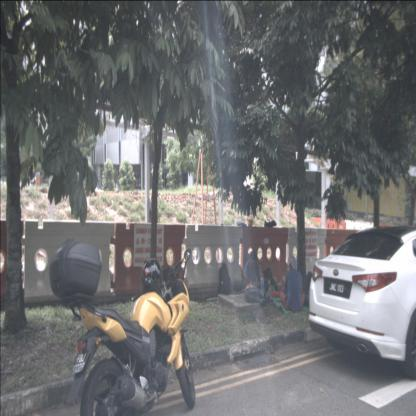barrier: (21, 219, 115, 304), (110, 223, 186, 295), (182, 225, 244, 289), (240, 226, 289, 284), (287, 226, 327, 278), (0, 219, 24, 302), (324, 229, 358, 257), (326, 219, 346, 229), (358, 221, 374, 231), (345, 220, 358, 230), (312, 217, 322, 228)
